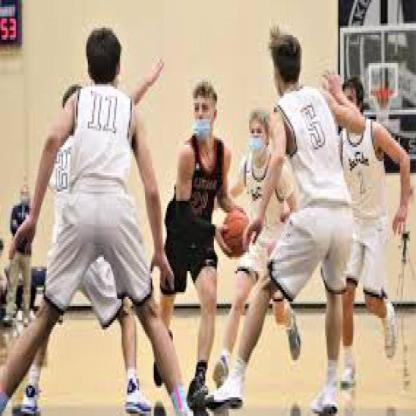basketball: (222, 210, 254, 260)
rim: (369, 86, 395, 102)
